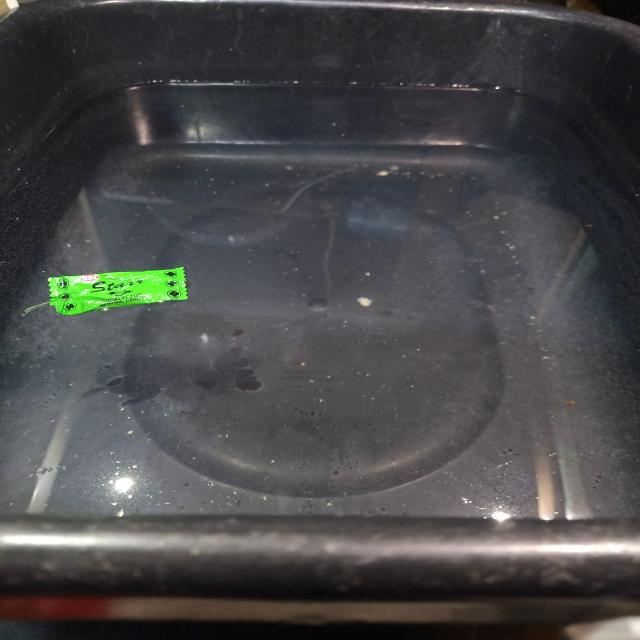Plastic Wrapper: (48, 267, 187, 315)
